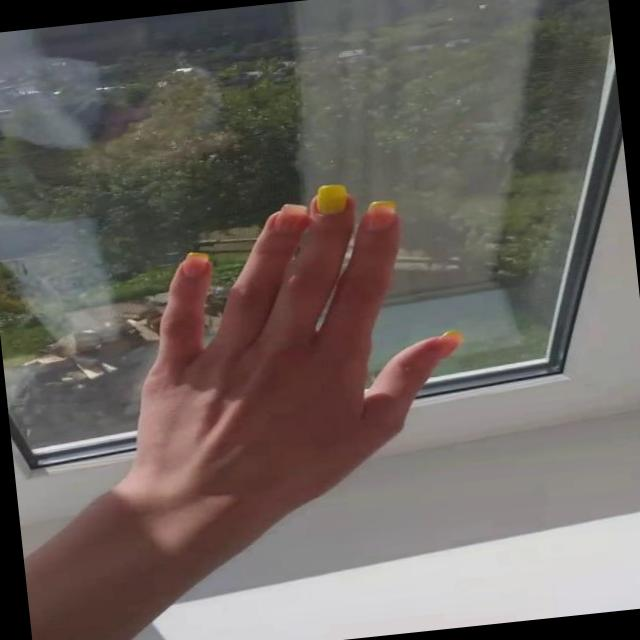Nail: (432, 330, 467, 363), (273, 204, 307, 234), (363, 201, 396, 231), (317, 183, 347, 215), (182, 252, 209, 277)
